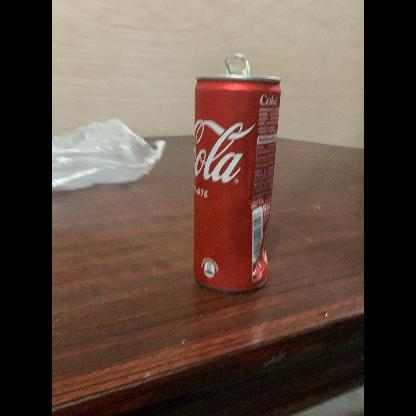Dent_Can: (245, 185, 273, 215), (243, 247, 267, 282)
Lid_Open: (218, 51, 258, 90)
Tin_Can: (184, 51, 284, 311)
